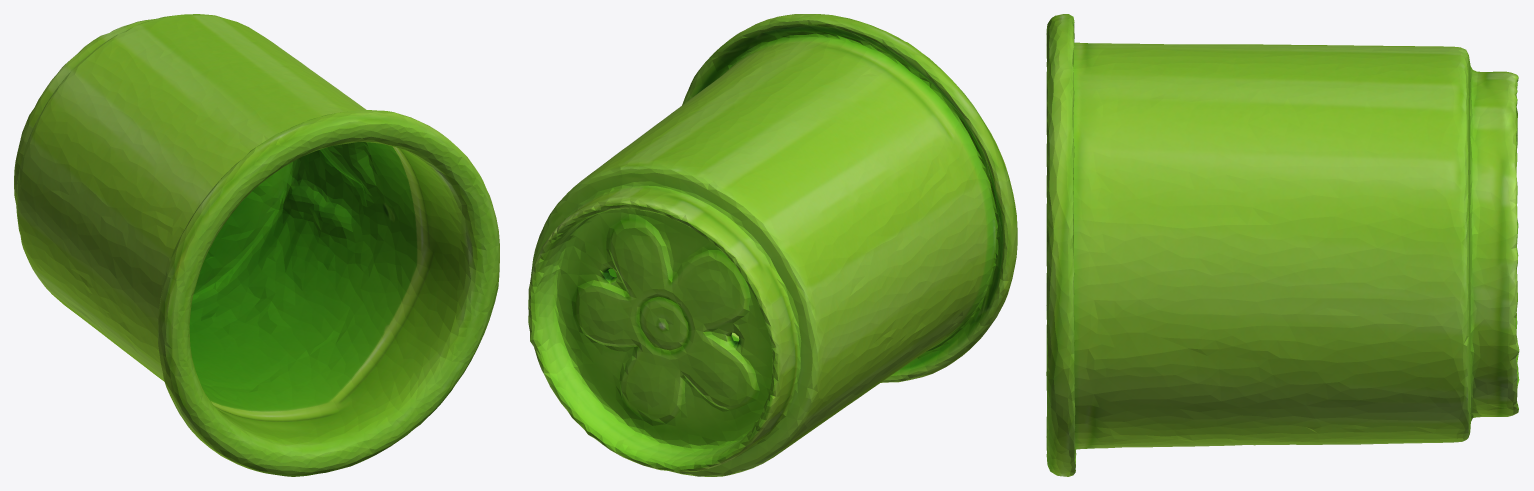
The model's file is c_cups.glb.
3 renders of one model, left to right at view 1: azimuth 30°, elevation 25°; view 2: azimuth 150°, elevation 25°; view 3: azimuth 270°, elevation 25°, orthographic. The views are drawn at different scales.
Parts seen in each view (by area): view 1: textured.obj; view 2: textured.obj; view 3: textured.obj.
Boxes of the visible parts, <box> form: textured.obj: <box>14,14,499,476</box>; textured.obj: <box>528,14,1017,476</box>; textured.obj: <box>1046,14,1519,476</box>.
Size of the model in its own units: 0.0648 by 0.065 by 0.0665.
1 material, 1 textured.
